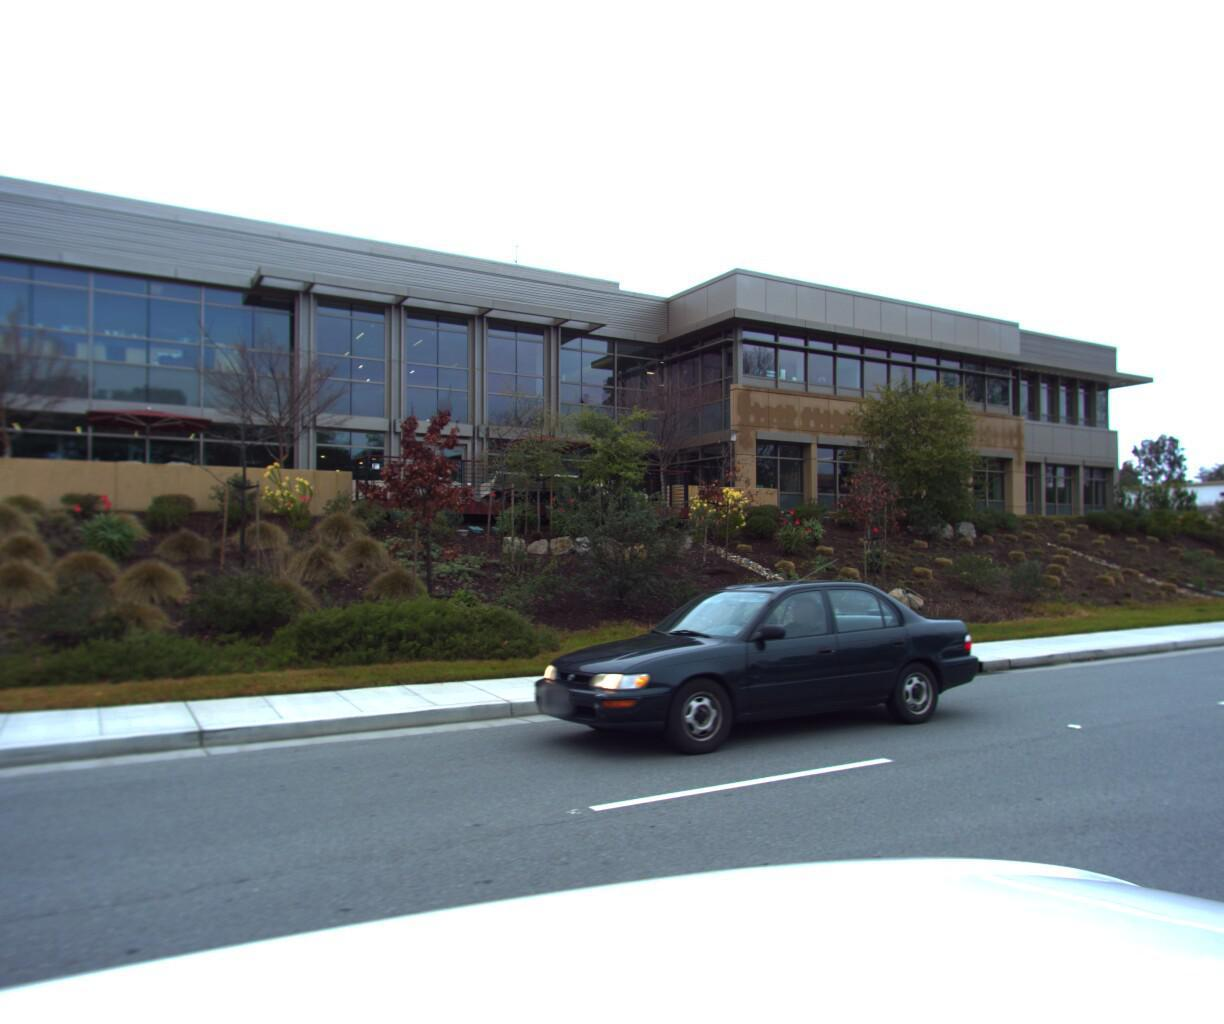car: (515, 565, 1001, 778)
